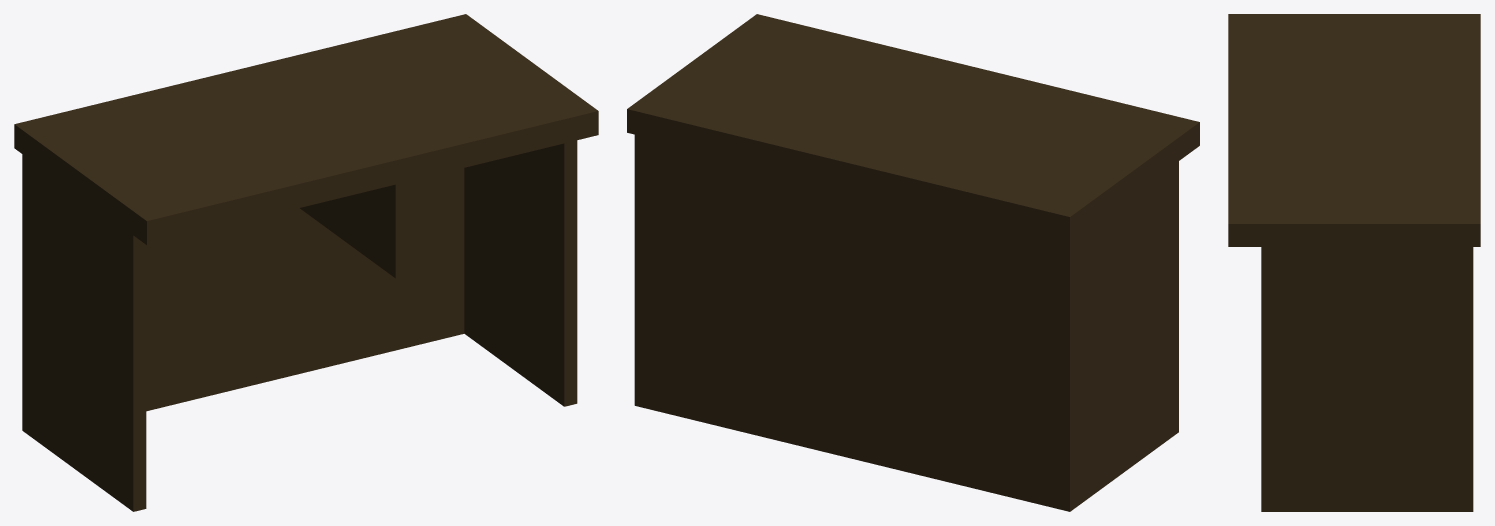
File: Office_Desk_1.fbx
3 views of the same model, side by side, from view 1: azimuth 30°, elevation 25°; view 2: azimuth 150°, elevation 25°; view 3: azimuth 270°, elevation 25° (orthographic). The views are drawn at different scales.
Parts seen in each view (by area): view 1: Office_Desk_1; view 2: Office_Desk_1; view 3: Office_Desk_1.
Part boxes in pixels (left/top/right/bottom): Office_Desk_1: left=14, top=14, right=598, bottom=511; Office_Desk_1: left=627, top=14, right=1199, bottom=511; Office_Desk_1: left=1228, top=14, right=1480, bottom=511.
Bounding box in the file's own units: 148 × 95.09 × 75.
